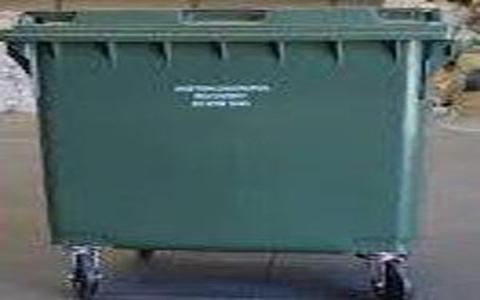Proper garbage: (1, 1, 472, 295)
